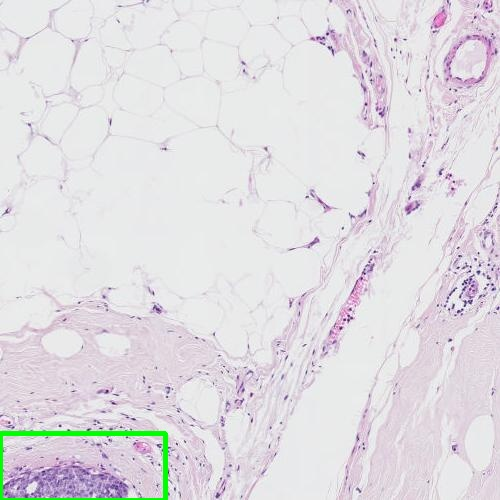DCIS: (0, 433, 165, 500)
